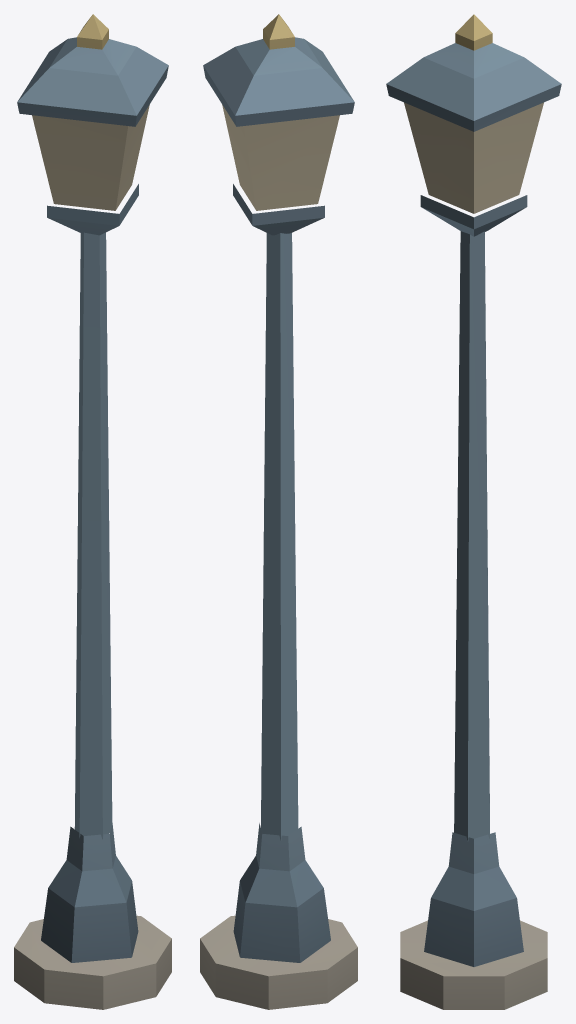
File: lamp.lod1.glb
3 renders of one model, left to right at view 1: azimuth 30°, elevation 25°; view 2: azimuth 150°, elevation 25°; view 3: azimuth 270°, elevation 25°, orthographic.
Size of the model in its own units: 0.6599 by 4 by 0.6599.
